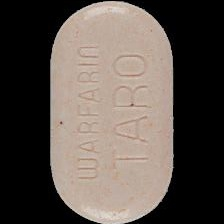33261-357: (0, 0, 224, 224)
